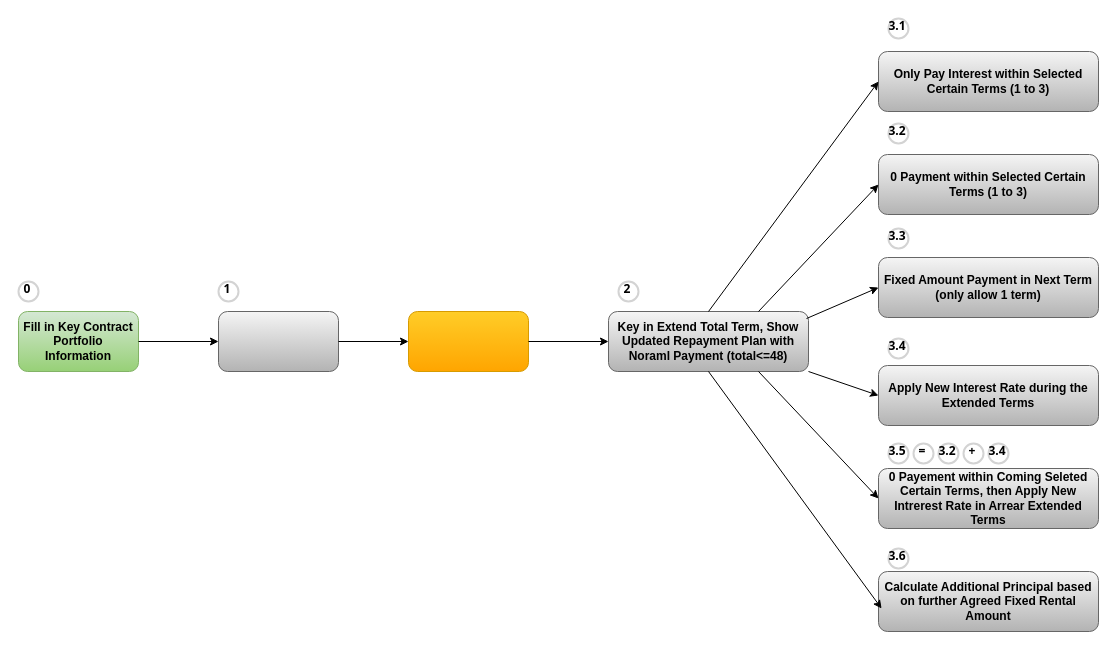
The diagram is 1116 pixels wide and 649 high, and some of its shapes have lost their labels. Each missing label, with the centre of its shape:
"Choose Planned Newrok Repayment Date" goes at [468,341].
"Show Standard Repayment Plan" goes at [278,341].
